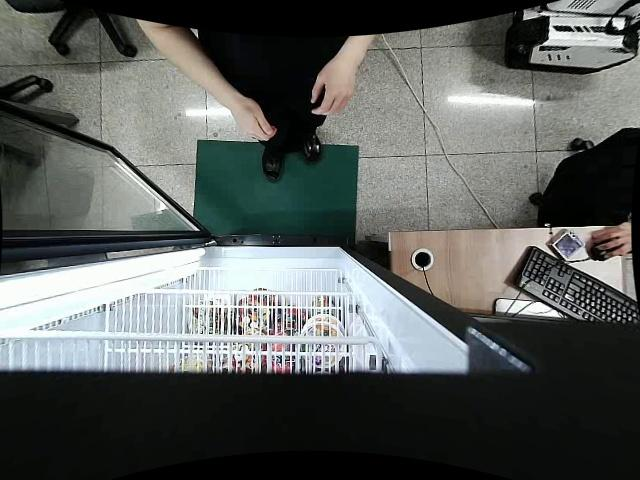00_hand: (309, 64, 358, 117), (233, 97, 278, 142)
